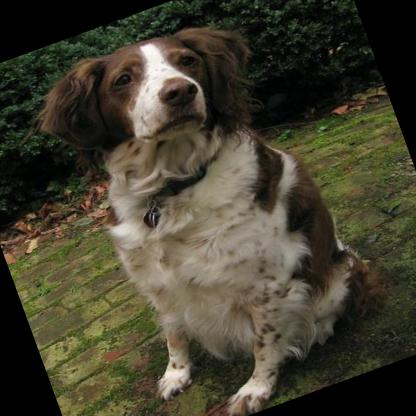Brittany_spaniel: (12, 0, 403, 416)
